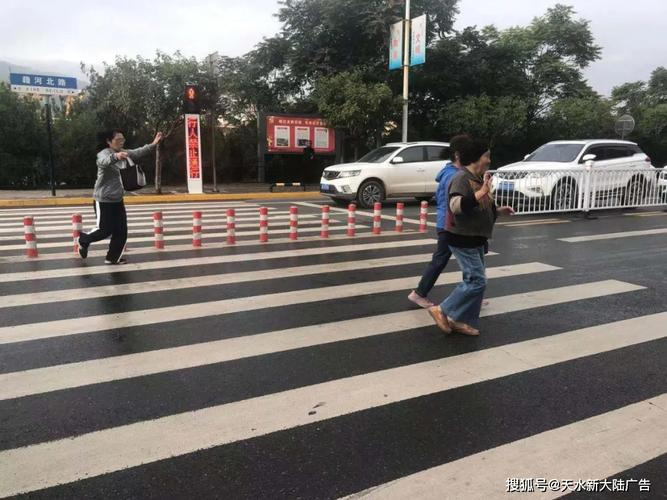car: (491, 139, 663, 204), (319, 141, 454, 209)
person: (408, 134, 516, 337), (76, 129, 165, 265)
sign: (10, 69, 82, 97), (614, 115, 635, 136)
traffic light: (183, 85, 200, 113)
